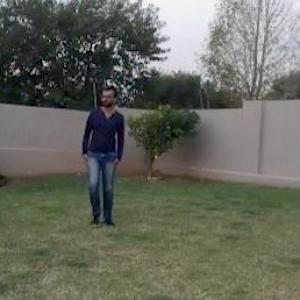follow: (77, 78, 129, 229)
